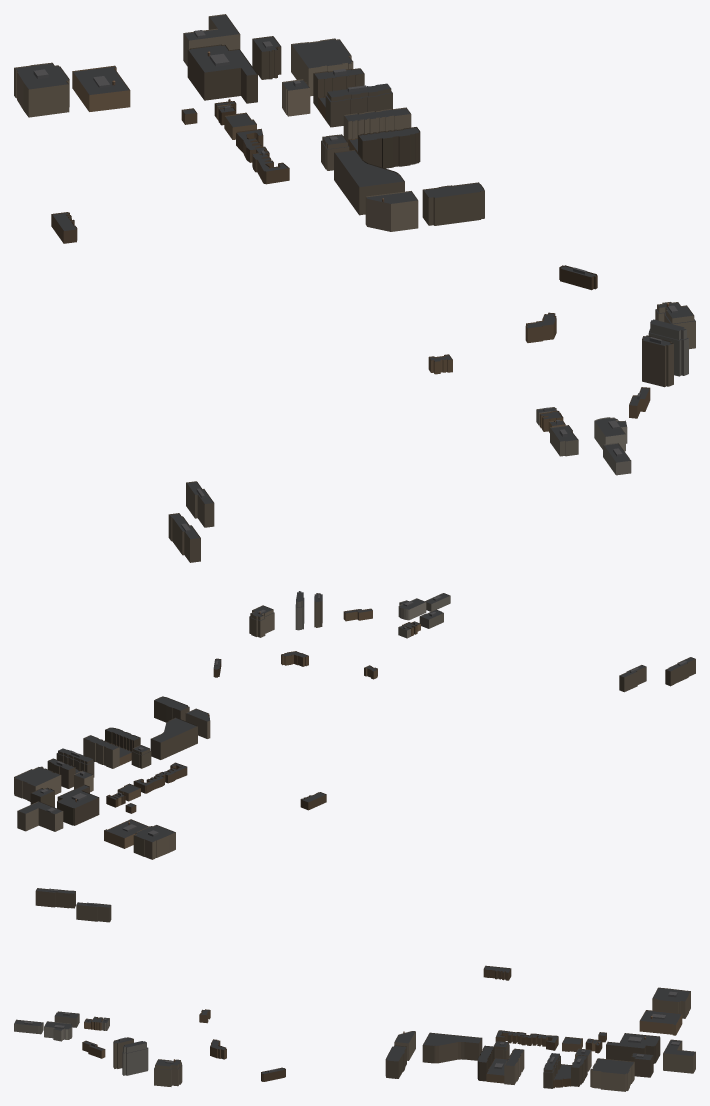
Rendered from manhattan_-04_-03.glb.
3 renders of one model, top to bottom at view 1: azimuth 30°, elevation 25°; view 2: azimuth 150°, elevation 25°; view 3: azimuth 270°, elevation 25°, orthographic. The views are drawn at different scales.
Parts seen in each view (by area): view 1: BLD_midrise_-04_-03, BLD_lowrise_-04_-03; view 2: BLD_midrise_-04_-03, BLD_lowrise_-04_-03; view 3: BLD_midrise_-04_-03, BLD_lowrise_-04_-03.
Boxes of the visible parts, left/top/right/bottom form: BLD_midrise_-04_-03: left=14, top=14, right=695, bottom=562; BLD_lowrise_-04_-03: left=51, top=65, right=650, bottom=475; BLD_midrise_-04_-03: left=14, top=591, right=695, bottom=859; BLD_lowrise_-04_-03: left=75, top=593, right=450, bottom=848; BLD_midrise_-04_-03: left=35, top=888, right=695, bottom=1091; BLD_lowrise_-04_-03: left=14, top=965, right=682, bottom=1088.
Size of the model in its own units: 947 by 65.22 by 1442.
